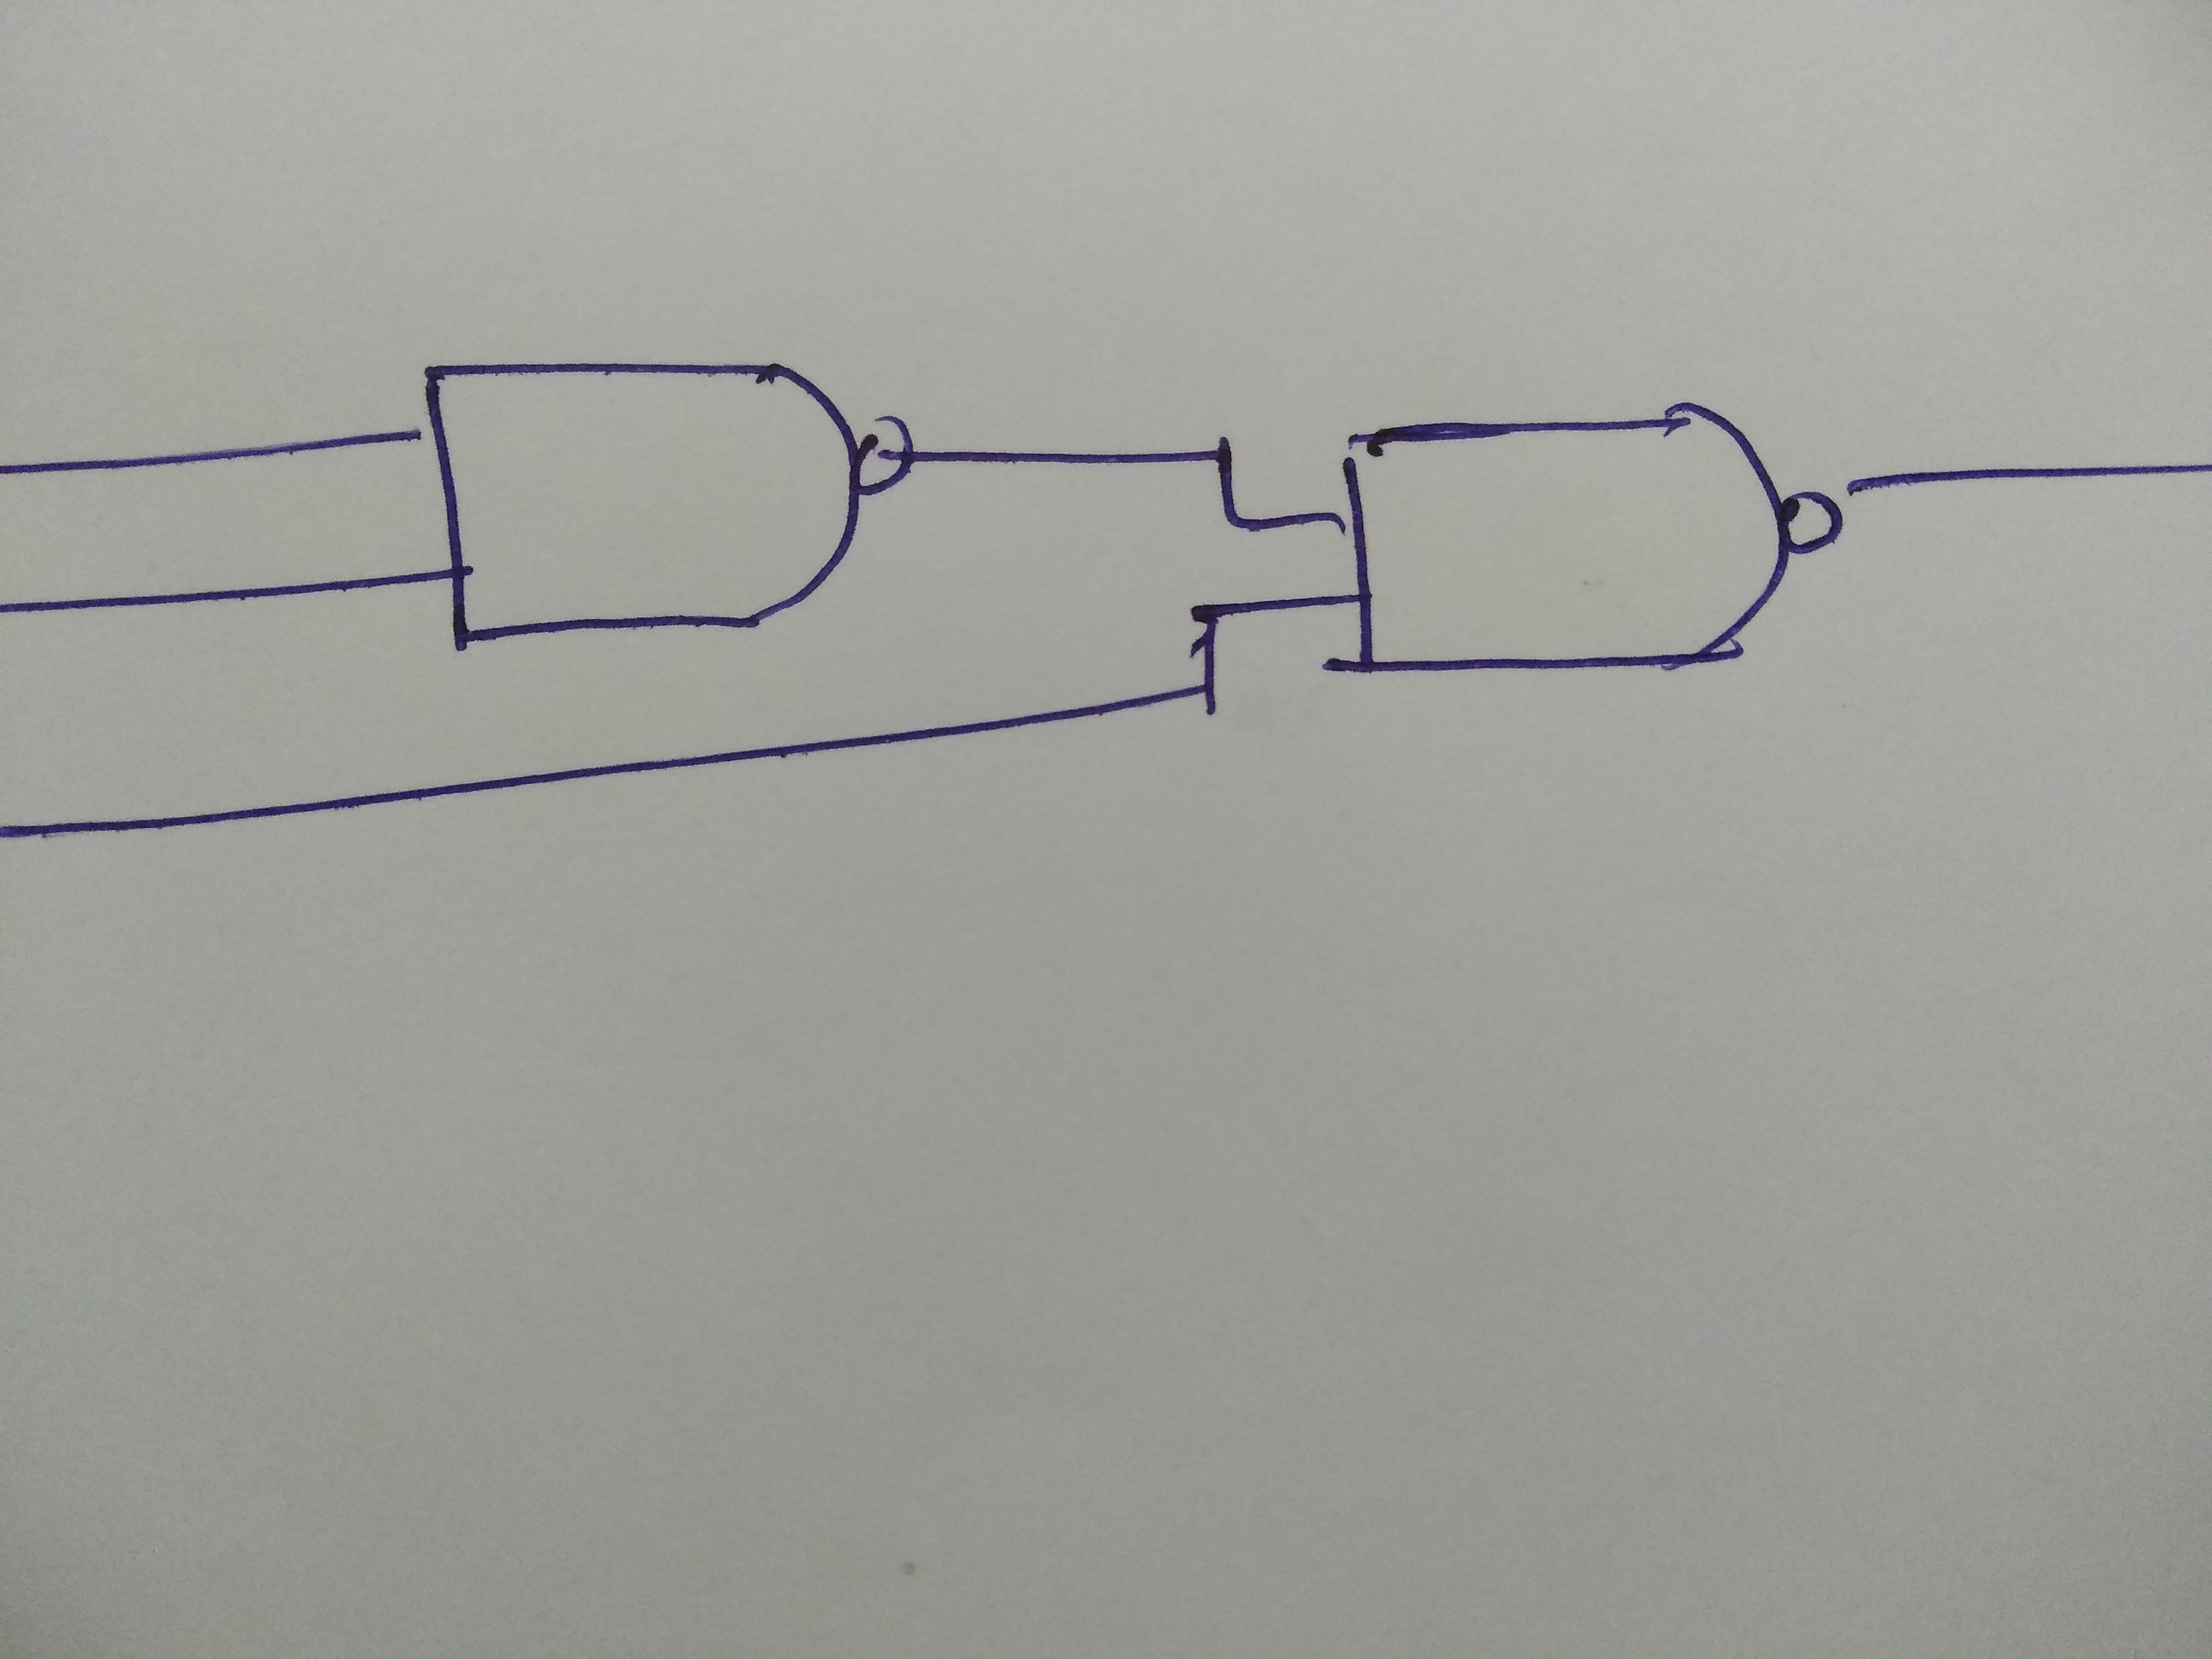nand: (343, 284, 956, 674), (1299, 390, 1900, 713)
